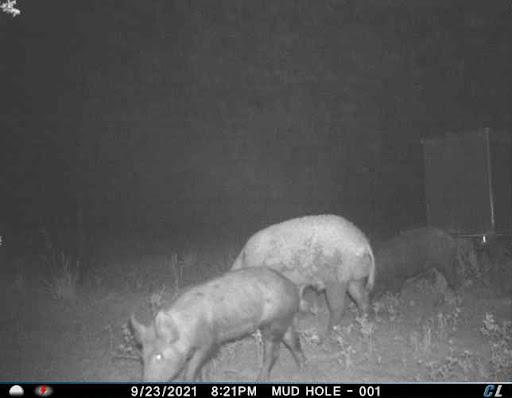Hog: (132, 265, 306, 387), (223, 210, 382, 337), (374, 221, 473, 305)
